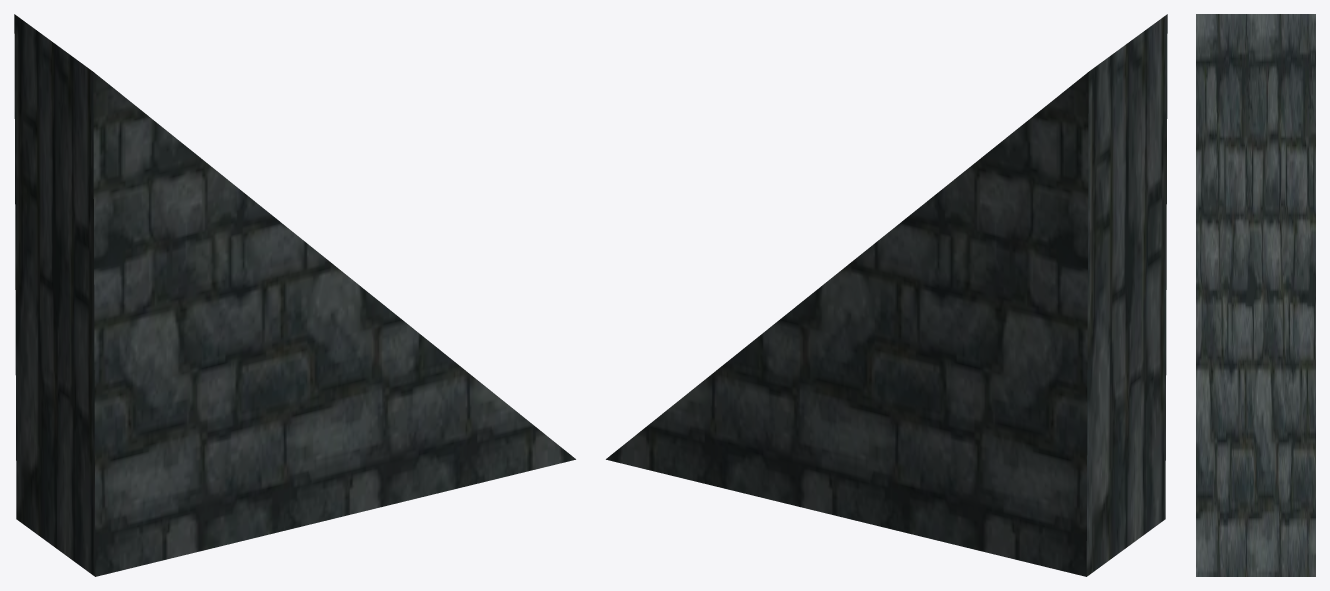
The model's file is dark halfwall45.glb.
The picture shows the model from 3 angles, left to right: view 1: azimuth 30°, elevation 25°; view 2: azimuth 150°, elevation 25°; view 3: azimuth 270°, elevation 25°; orthographic projection. The views are drawn at different scales.
Parts seen in each view (by area): view 1: Plane; view 2: Plane; view 3: Plane.
Boxes of the visible parts, x1=… form: Plane: x1=14, y1=14, x2=575, y2=576; Plane: x1=606, y1=14, x2=1167, y2=576; Plane: x1=1196, y1=14, x2=1315, y2=576.
Size of the model in its own units: 1.41 by 1.41 by 0.3986.
1 material, 1 textured.
